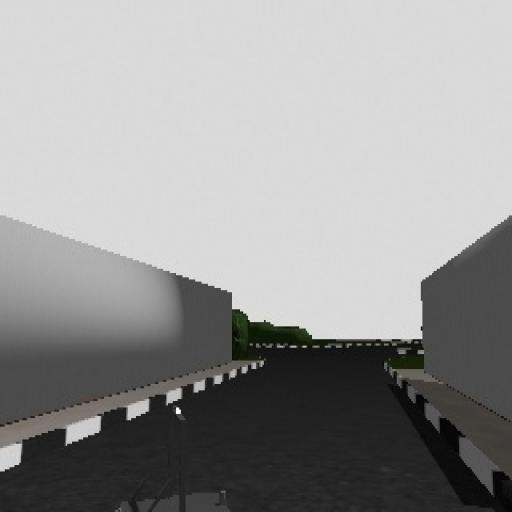huskya200: (109, 389, 237, 512)
